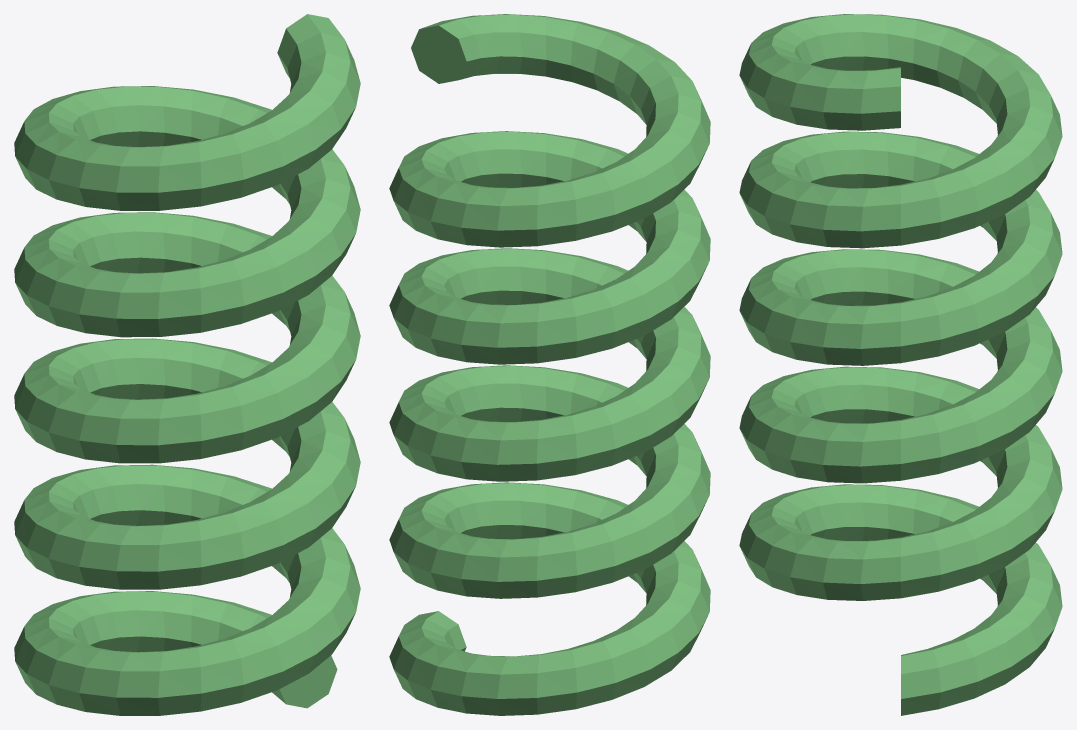
The model's file is helix_1.glb.
3 renders of one model, left to right at view 1: azimuth 30°, elevation 25°; view 2: azimuth 150°, elevation 25°; view 3: azimuth 270°, elevation 25°, orthographic. The views are drawn at different scales.
Visible parts, largest first — view 1: Mesh_Mesh_head_geo.001_lambert2SG.001; view 2: Mesh_Mesh_head_geo.001_lambert2SG.001; view 3: Mesh_Mesh_head_geo.001_lambert2SG.001.
Boxes of the visible parts, x1,y1,x2,y2 form: Mesh_Mesh_head_geo.001_lambert2SG.001: (14,14,360,715); Mesh_Mesh_head_geo.001_lambert2SG.001: (389,14,710,715); Mesh_Mesh_head_geo.001_lambert2SG.001: (739,14,1062,715).
Size of the model in its own units: 9.05 by 20.04 by 9.07.
